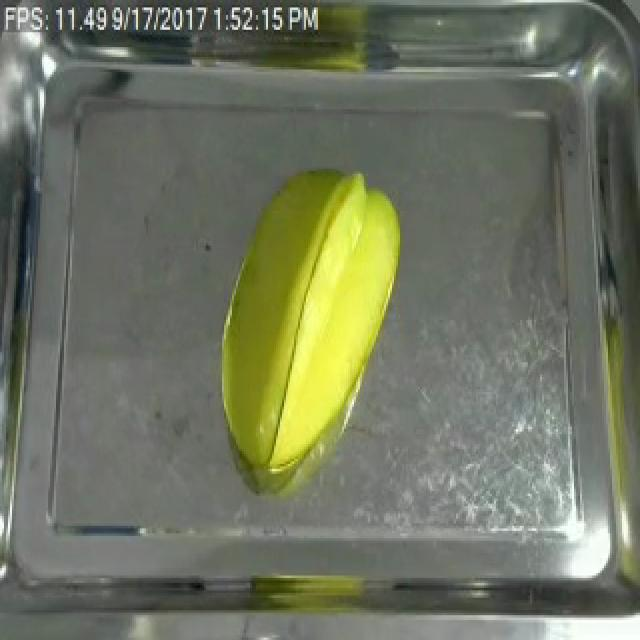fruit: (204, 156, 408, 491)
